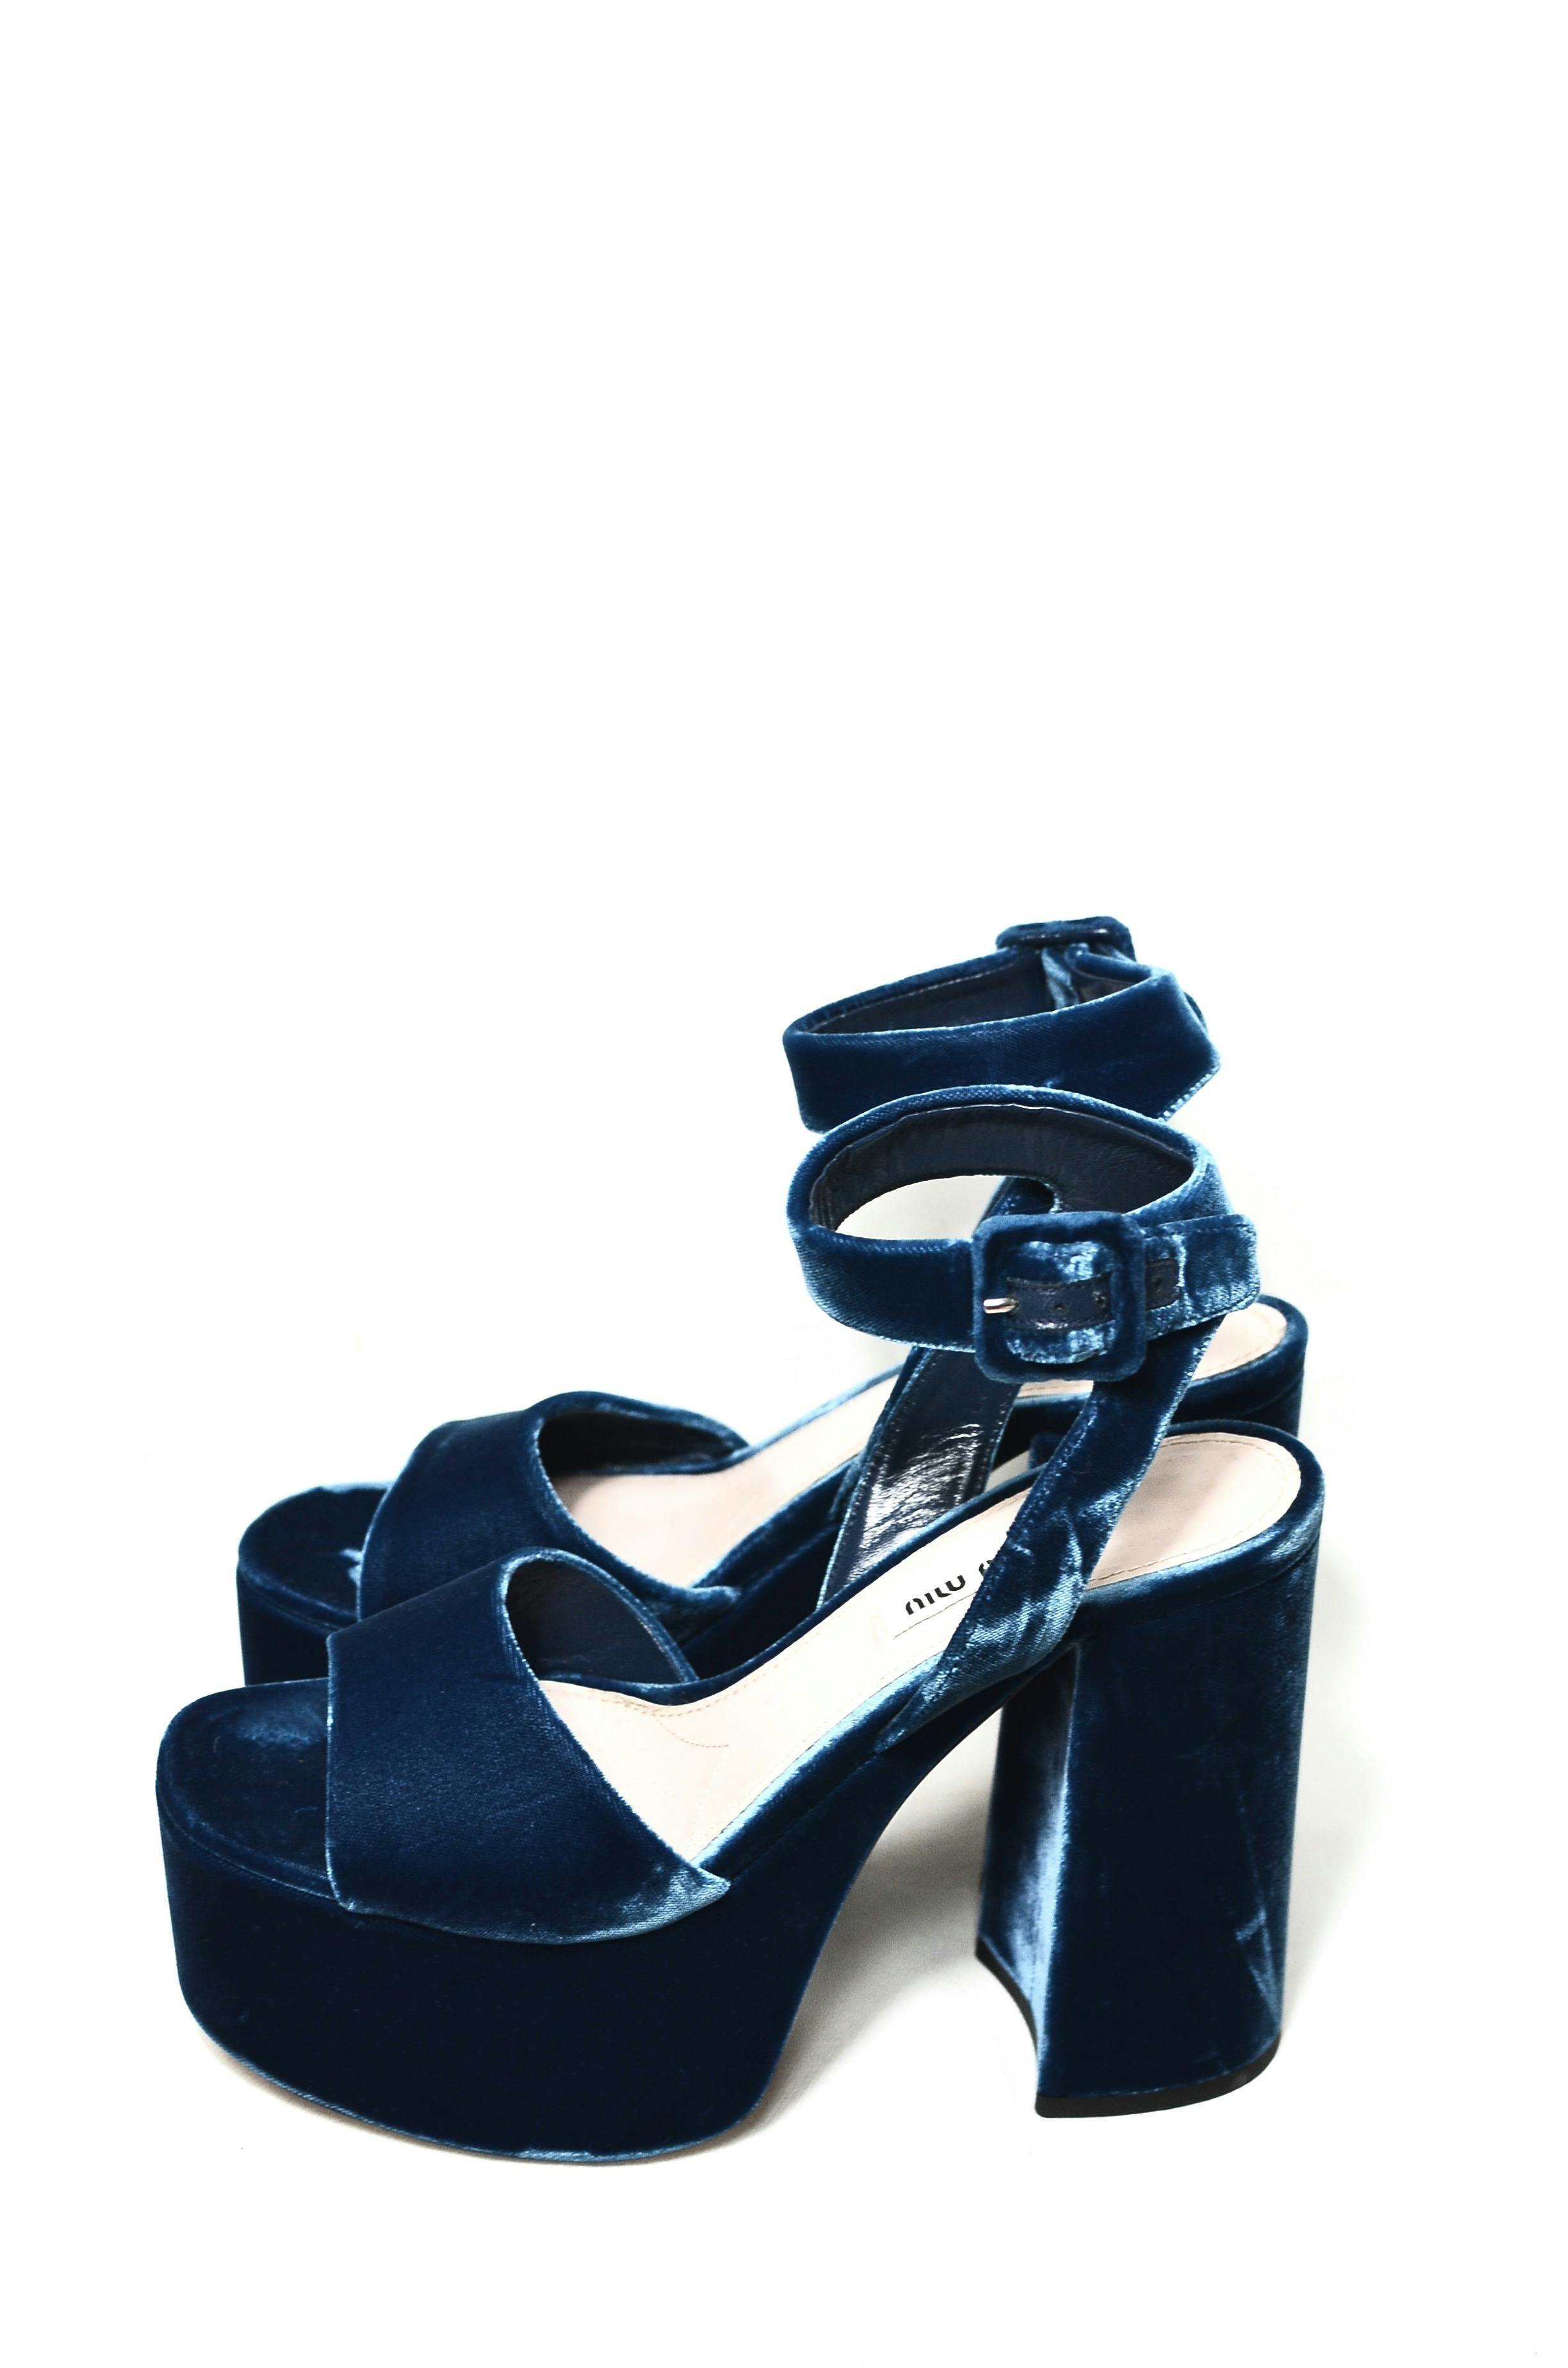Footwear: (100, 908, 1335, 2189)
